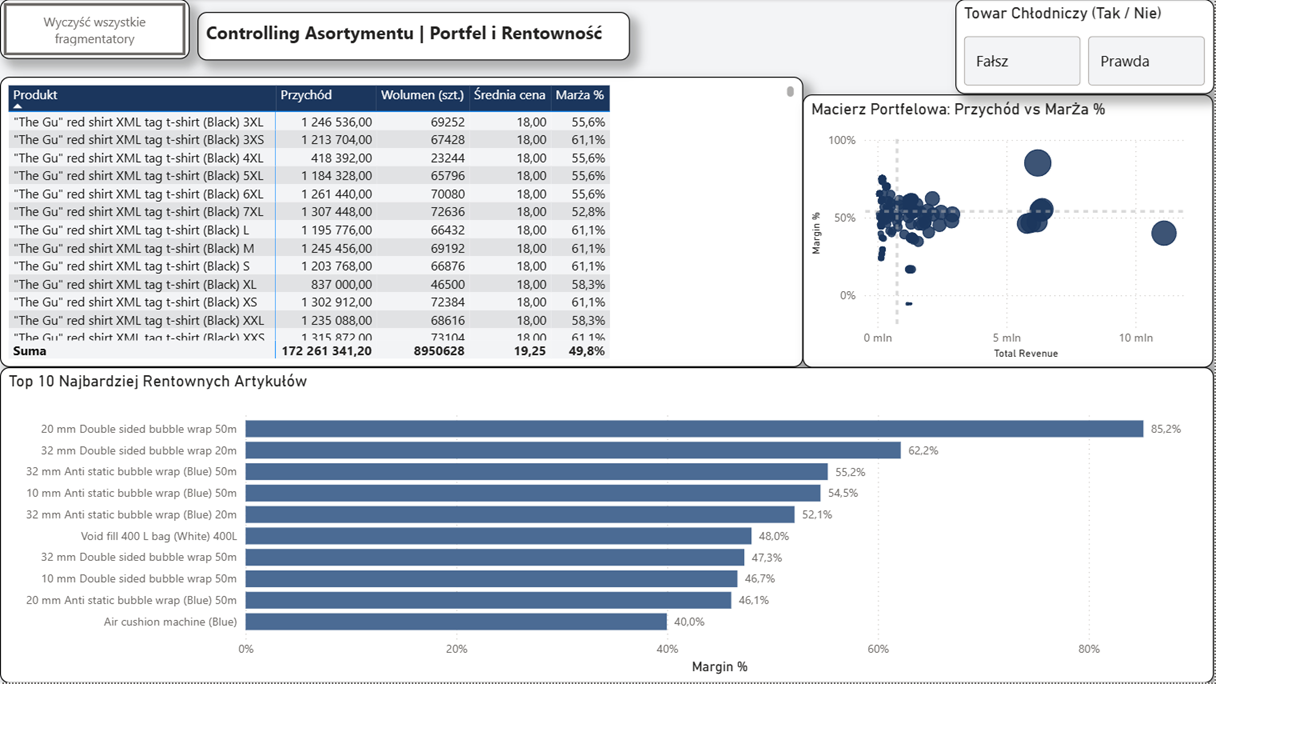

The page's visual inventory and layout, read from the dashboard file:
{"tool":"powerbi","page":{"name":"Controlling Operacyjny","canvas":[1280,720],"ordinal":1},"visuals":[{"type":"pivotTable","title":"Karta Wyników Asortymentu","fields":{"Rows":["Dim_StockItem.Stock Item"],"Values":["_Measures.Total Revenue","_Measures.Total Quantity","_Measures.Avg Unit Price","_Measures.Margin %"]},"box":[0,81.6,846.6,306.3],"z":0},{"type":"textbox","box":[208.7,13.4,456.1,50.8],"z":1000},{"type":"scatterChart","title":"Macierz Portfelowa: Przychód vs Marża %","fields":{"X":["_Measures.Total Revenue"],"Y":["_Measures.Margin %"],"Category":["Dim_StockItem.Stock Item"],"Size":["_Measures.Total Profit"]},"box":[846.6,100.3,433.4,287.6],"z":2000},{"type":"clusteredBarChart","title":"Top 10 Najbardziej Rentownych Artykułów","fields":{"Category":["Dim_StockItem.Stock Item"],"Y":["_Measures.Margin %"]},"box":[0,387.6,1280.3,332.6],"z":3000},{"type":"advancedSlicerVisual","title":"Towar Chłodniczy (Tak / Nie)","fields":{"Values":["Dim_StockItem.Is Chiller Stock"]},"box":[1007.1,0,272.9,100.3],"z":4000},{"type":"actionButton","box":[0,0,199.5,63.3],"z":5000}]}

Visuals, with their boxes in screenshot pixels (x1, y1, x2, y2), scaled from the page's 1280x720 canvas onto the 1292x733 screenshot:
"Karta Wyników Asortymentu" pivotTable: [0, 83, 855, 395]
textbox: [211, 14, 671, 65]
"Macierz Portfelowa: Przychód vs Marża %" scatterChart: [855, 102, 1291, 395]
"Top 10 Najbardziej Rentownych Artykułów" clusteredBarChart: [0, 395, 1291, 732]
"Towar Chłodniczy (Tak / Nie)" advancedSlicerVisual: [1017, 0, 1291, 102]
actionButton: [0, 0, 201, 64]
